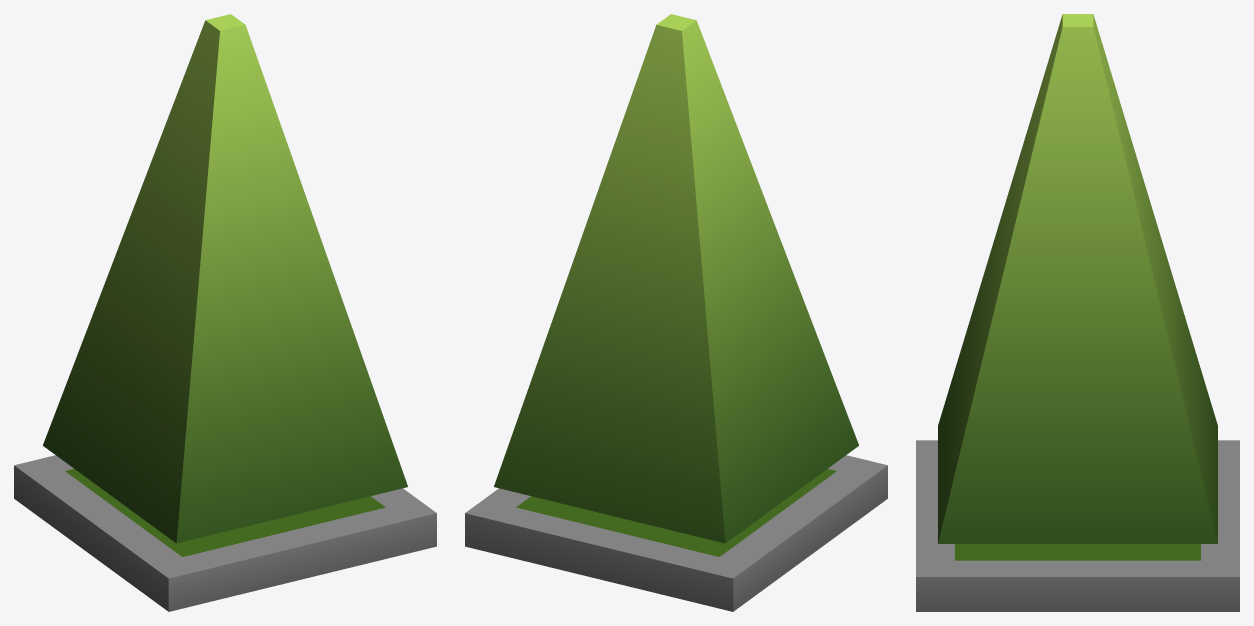
The model's file is tree 5.fbx.
3 renders of one model, left to right at view 1: azimuth 30°, elevation 25°; view 2: azimuth 150°, elevation 25°; view 3: azimuth 270°, elevation 25°, orthographic. The views are drawn at different scales.
Parts seen in each view (by area): view 1: tree_5; view 2: tree_5; view 3: tree_5.
Boxes of the visible parts, left/top/right/bottom form: tree_5: left=14, top=14, right=436, bottom=611; tree_5: left=465, top=14, right=887, bottom=611; tree_5: left=916, top=14, right=1239, bottom=611.
Bounding box in the file's own units: 169 × 301 × 169.
1 material, 1 textured.
